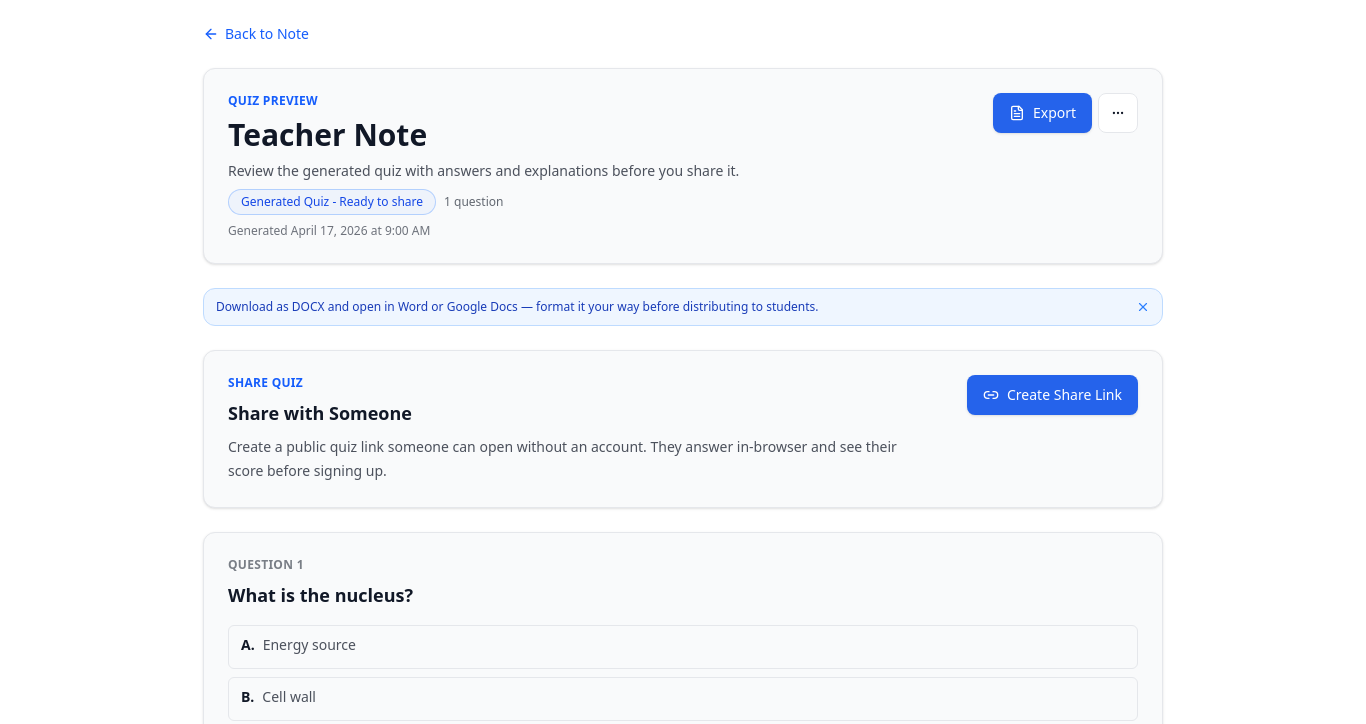
Scenario: GeneratedQuizPreviewPageClient › regenerates after confirmation
Expected: the heading "What is the nucleus?" is shown, top-left (228, 583), bottom-right (413, 607)
Step 1. Click the button named "More quiz actions" → (1118, 113), box top-left (1098, 93), bottom-right (1138, 133)
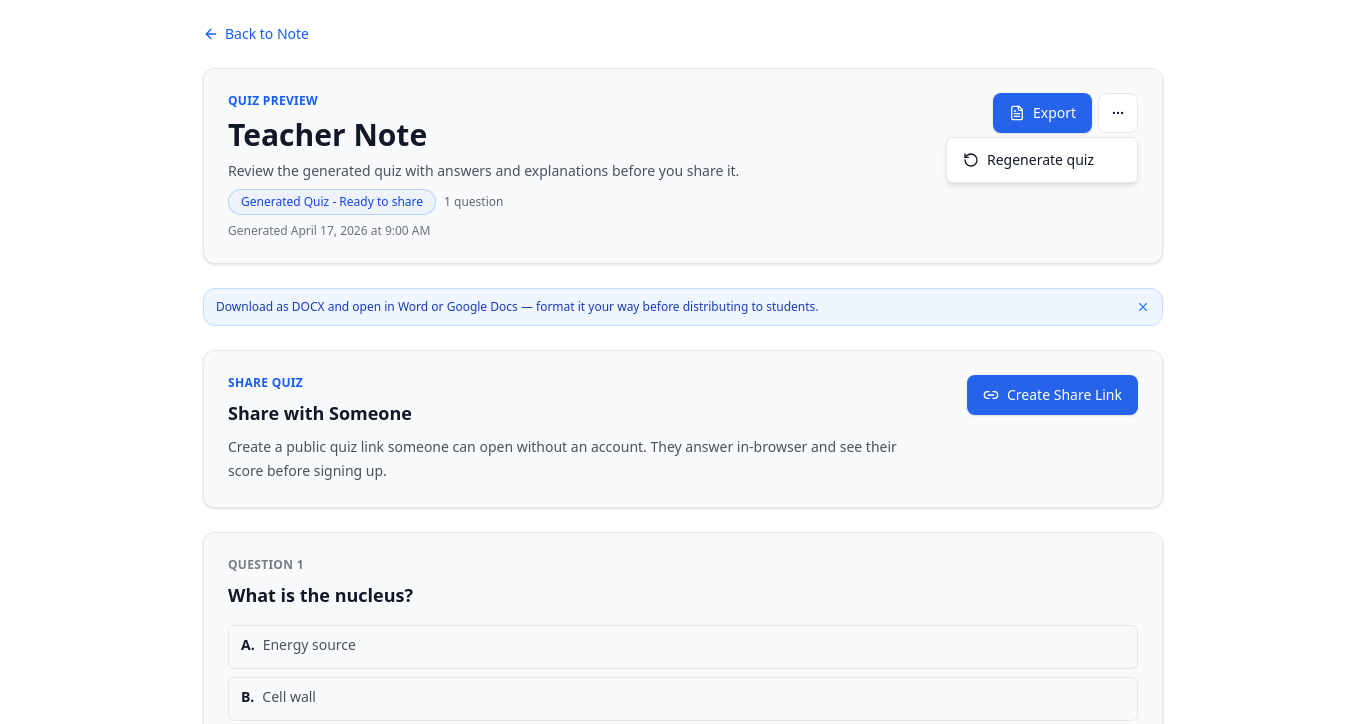
Step 2. Click the menu item "Regenerate quiz" → (1042, 160), box top-left (951, 142), bottom-right (1133, 178)
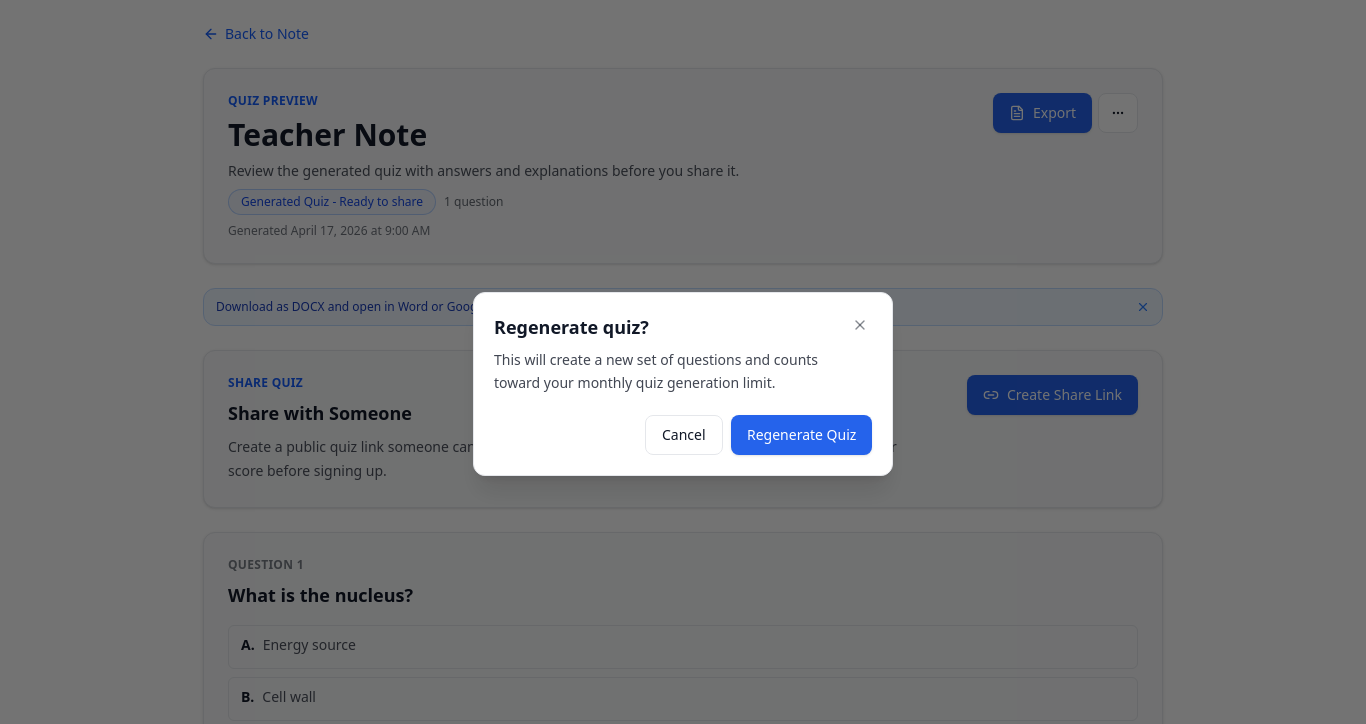
Now the heading "Regenerate quiz?" is shown, box top-left (494, 313), bottom-right (649, 341)
Step 3. Click the button "Regenerate Quiz" → (801, 435), box top-left (731, 415), bottom-right (872, 455)
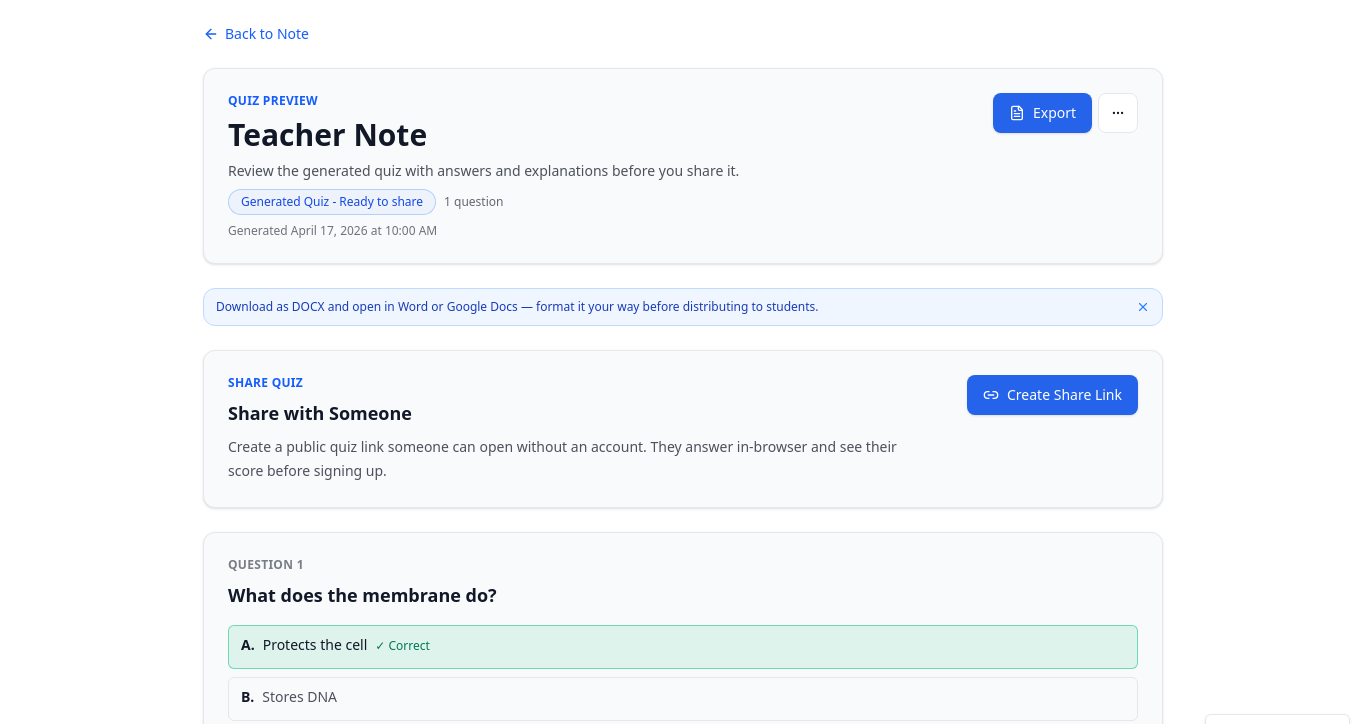
Now the heading "What does the membrane do?" is shown, box top-left (228, 583), bottom-right (497, 607)
